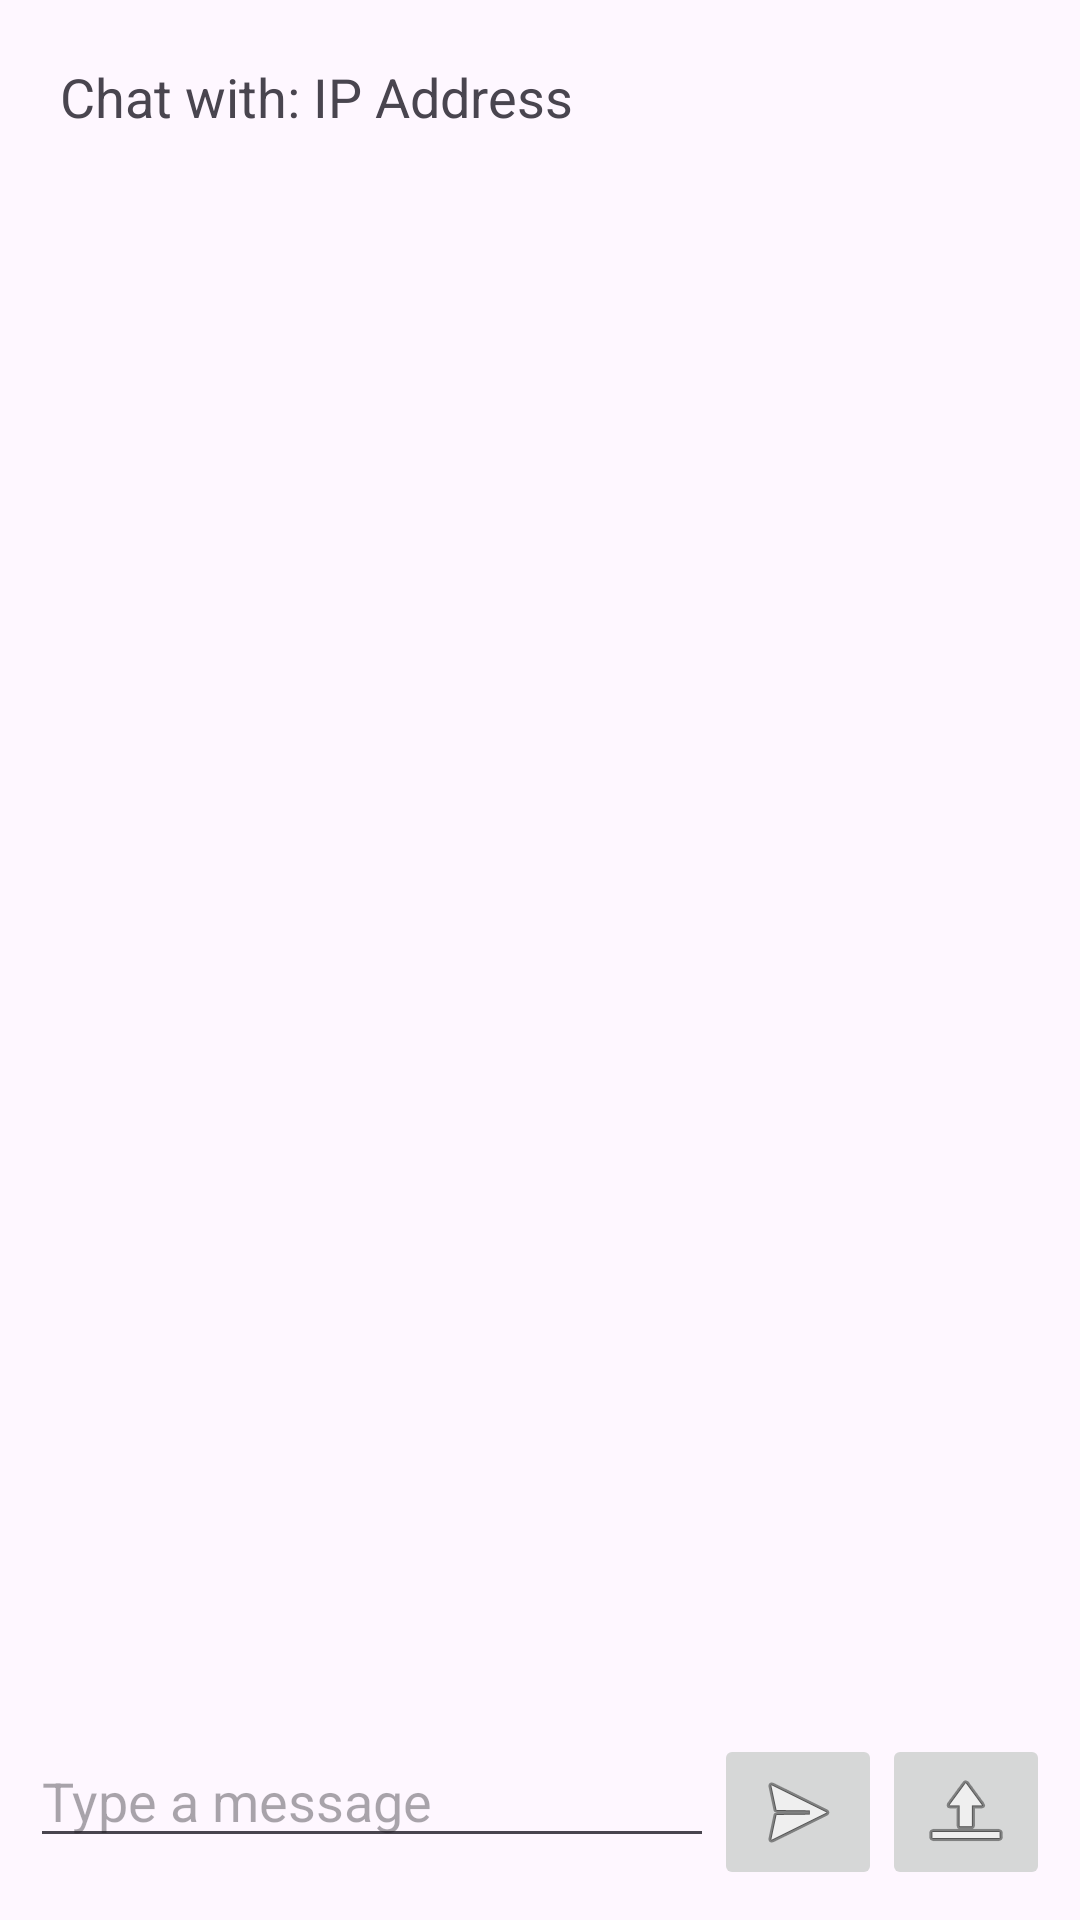

Where icons sit on this 1080 × 1920 app screen, as [x1,y1,x2,y2]:
send: [726,1752,870,1872]
upload: [894,1752,1038,1872]
